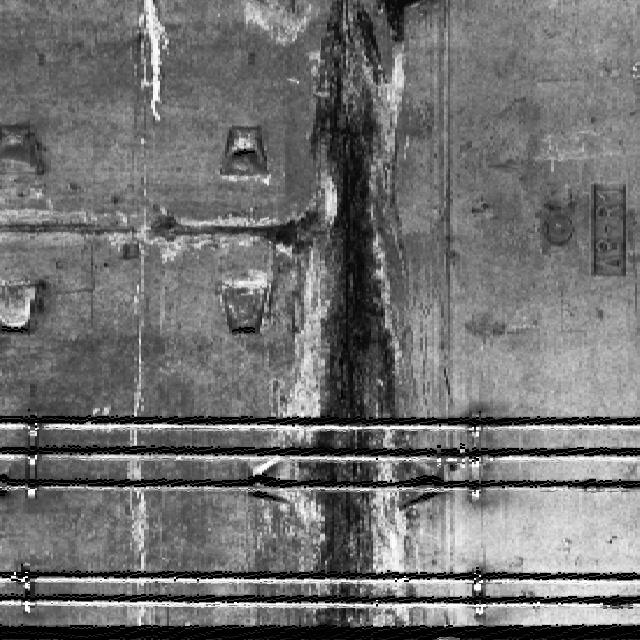leakage: (270, 4, 420, 636)
